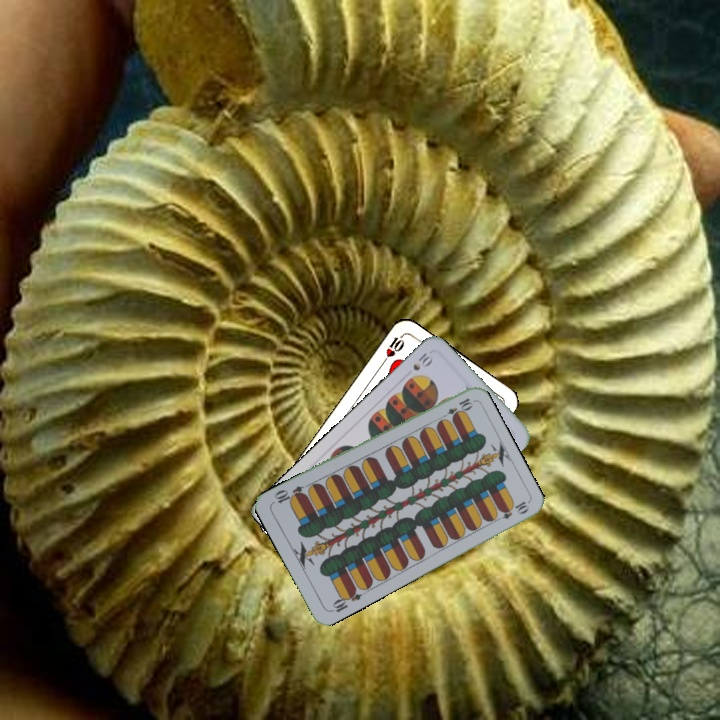E10: (327, 584, 364, 615), (437, 394, 475, 422)
H10: (378, 330, 407, 366)
S10: (409, 349, 436, 373)
